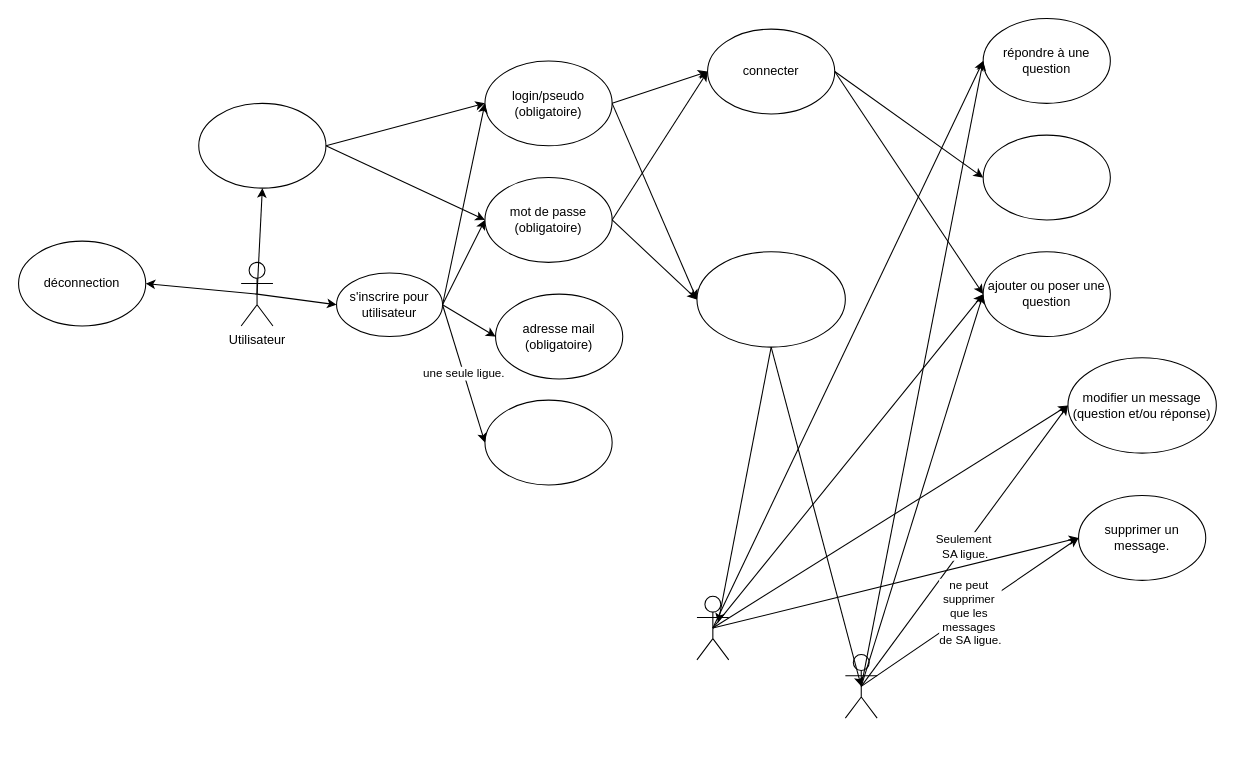
The diagram is 1235 pixels wide and 759 high, and some of its shapes have lost their labels. The shapes that lost their labels are listed below. From the top down, each one's box as (x1, y1, x2, y2) in pixels, then its label:
(198, 102, 326, 188): connection
(982, 134, 1110, 220): afficher la liste de message
(696, 251, 845, 347): s'inscrire pour Administrateur et Super Administrateur (promotion)
(484, 399, 612, 485): ligue (à choisir dans une liste)
(696, 595, 729, 660): Super Administrateur
(844, 653, 877, 718): Administrateur
